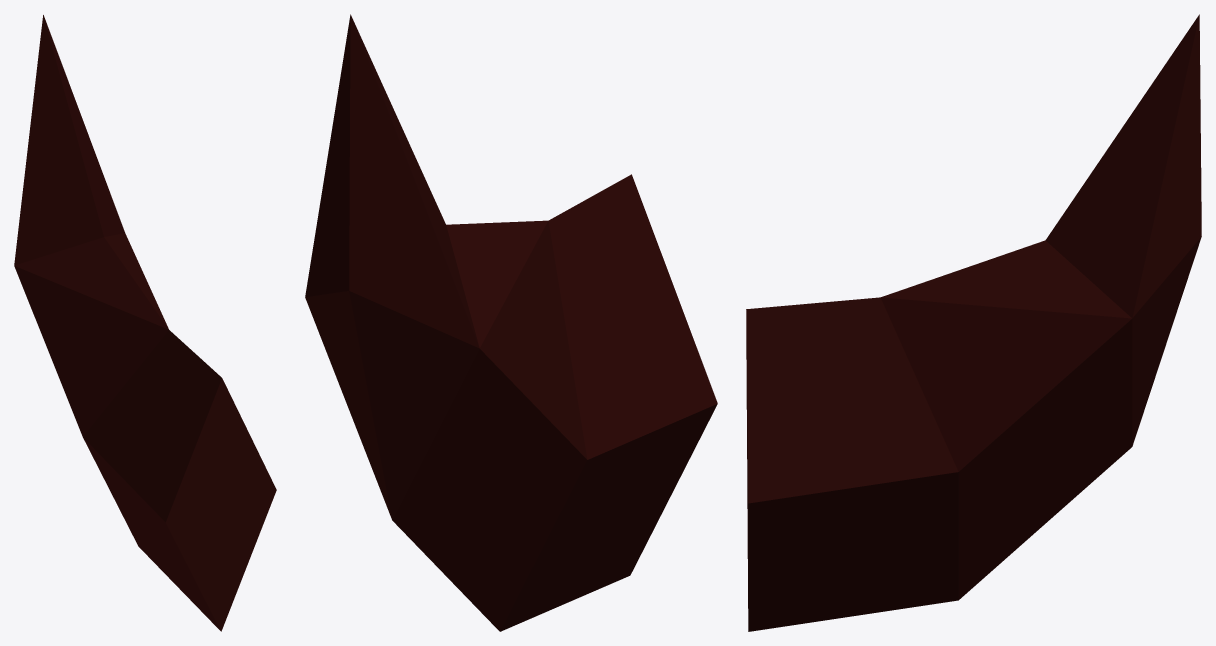
File: ship-1-1.fbx
3 views of the same model, side by side, from view 1: azimuth 30°, elevation 25°; view 2: azimuth 150°, elevation 25°; view 3: azimuth 270°, elevation 25° (orthographic). The views are drawn at different scales.
Parts seen in each view (by area): view 1: ship; view 2: ship; view 3: ship.
Part boxes in pixels (box(x1,y1,x2,y2)): ship: box(14, 15, 276, 631); ship: box(305, 14, 717, 631); ship: box(746, 14, 1201, 631).
Size of the model in its own units: 1.17 by 4.93 by 3.29.
